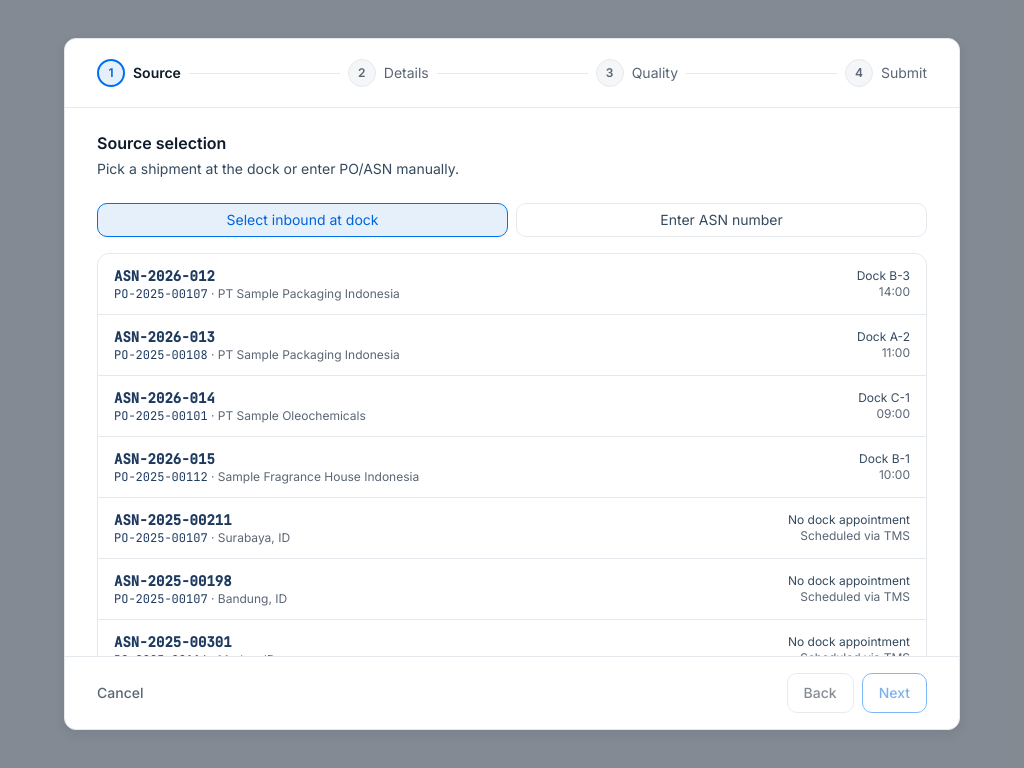
GRInspectionWizard — the BPOM gate reads the master and fails closed › ⚠️ THE LOCK — an UNDETERMINED line BLOCKS the wizard: Next is disabled
Click the text "ASN-2026-014" at (164, 398), box left=114, top=389, right=215, bottom=407
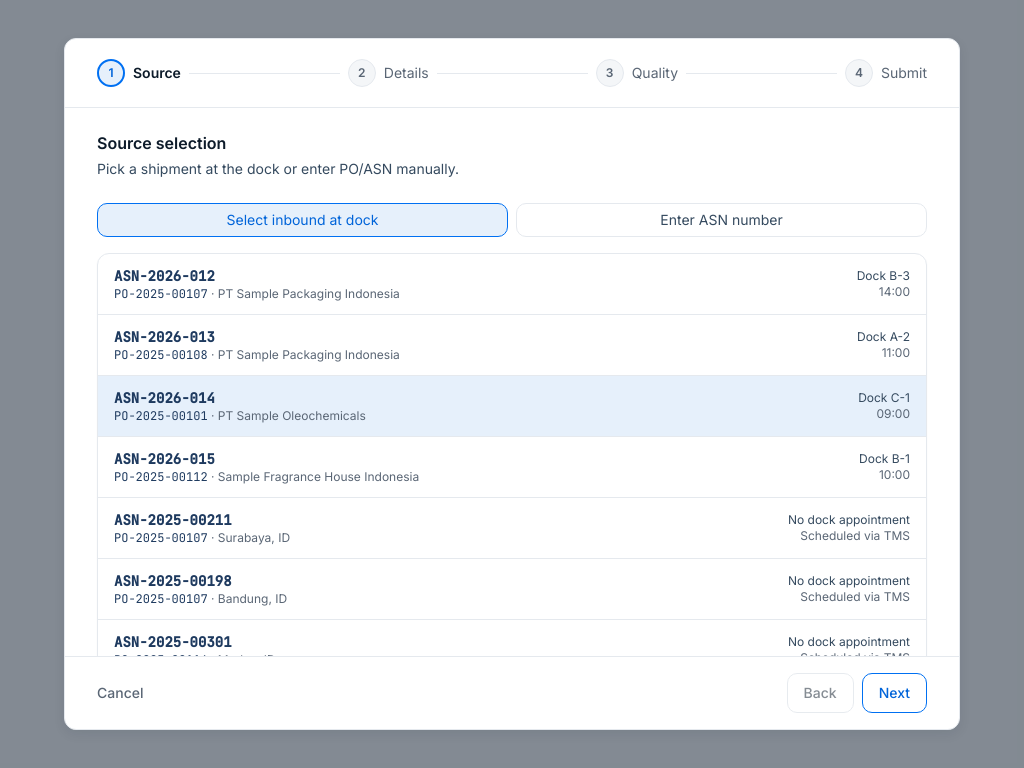
Click the button "Next" at (894, 693), box left=862, top=673, right=927, bottom=713
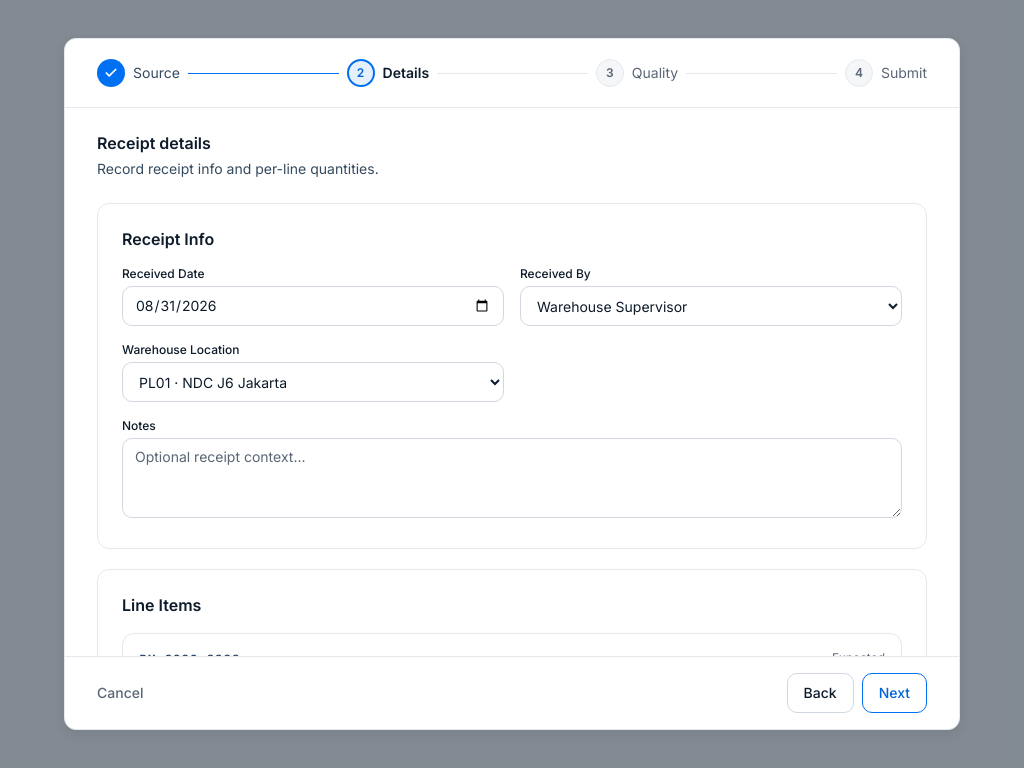
Click the button "Next" at (894, 693), box left=862, top=673, right=927, bottom=713
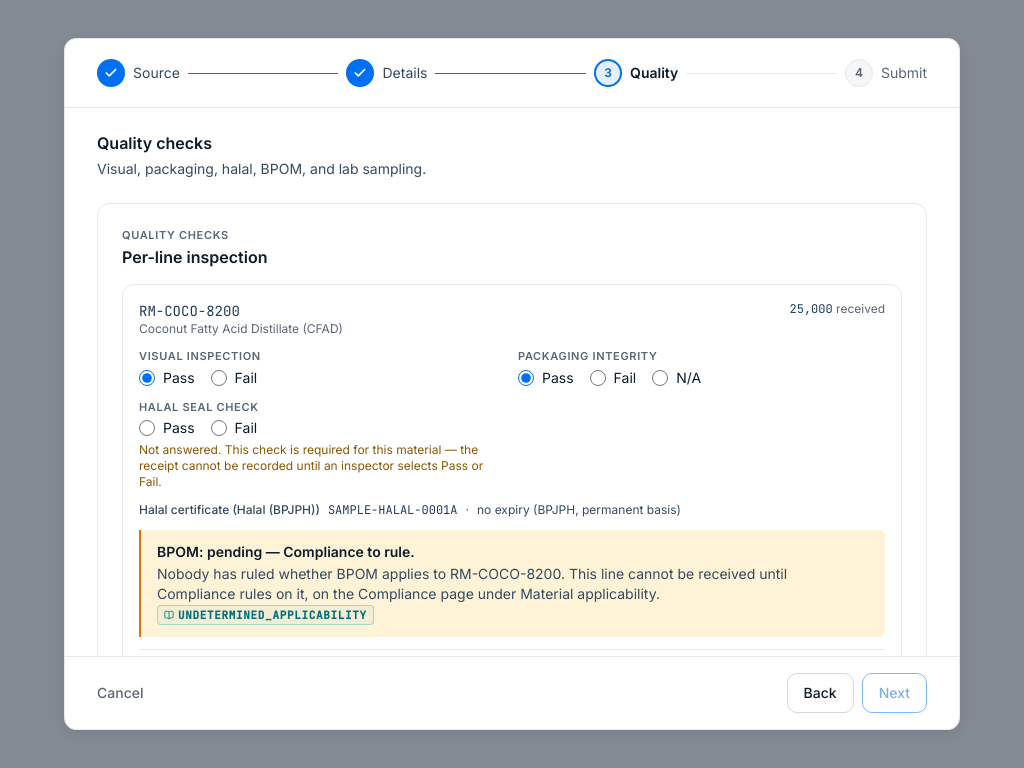
Now the message with test id "gr-bpom-refusal-0" is shown, box left=139, top=530, right=885, bottom=637
Now the button "Next" is disabled, box left=862, top=673, right=927, bottom=713
